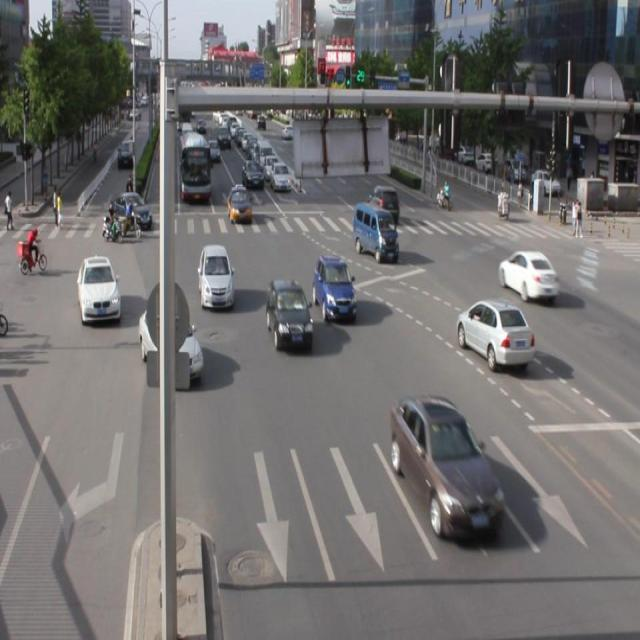car: (391, 394, 504, 542), (456, 297, 533, 368), (137, 304, 203, 383), (496, 247, 559, 301), (267, 276, 313, 349), (78, 254, 120, 323), (313, 255, 356, 321), (198, 243, 234, 308)
truck: (354, 201, 399, 262)
